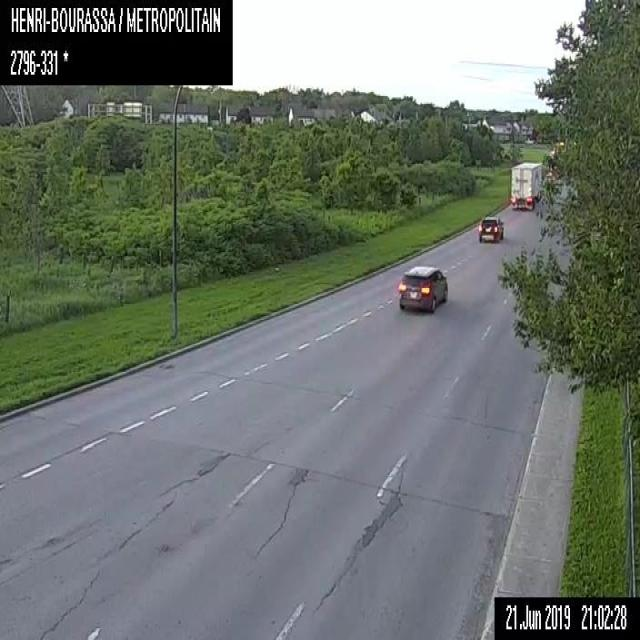vehicle: (397, 264, 449, 312), (509, 160, 542, 211), (477, 213, 503, 240)
